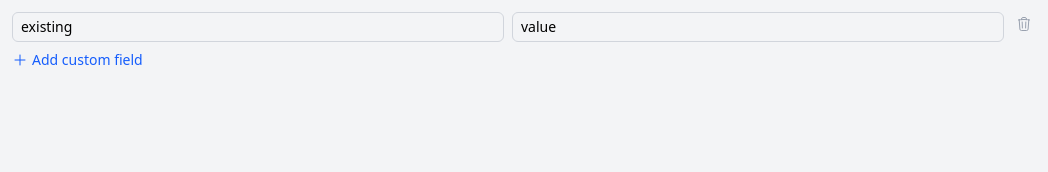
Scenario: MetadataCustomFields › add field creates new pair with auto-generated key
Click the button "Add custom field": (77, 60) [12,50,143,70]
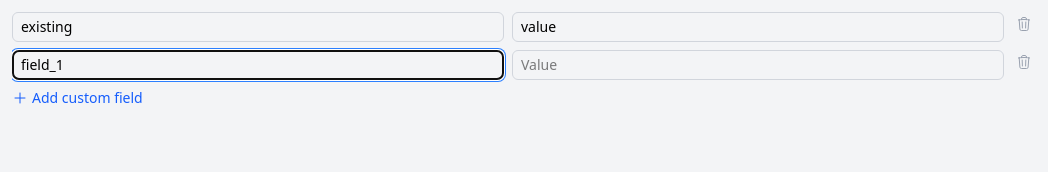
Expected: the 1st field showing "existing" is shown, [12,12,504,42]
Now the 3rd field showing "field_1" is shown, box [12,50,504,80]
